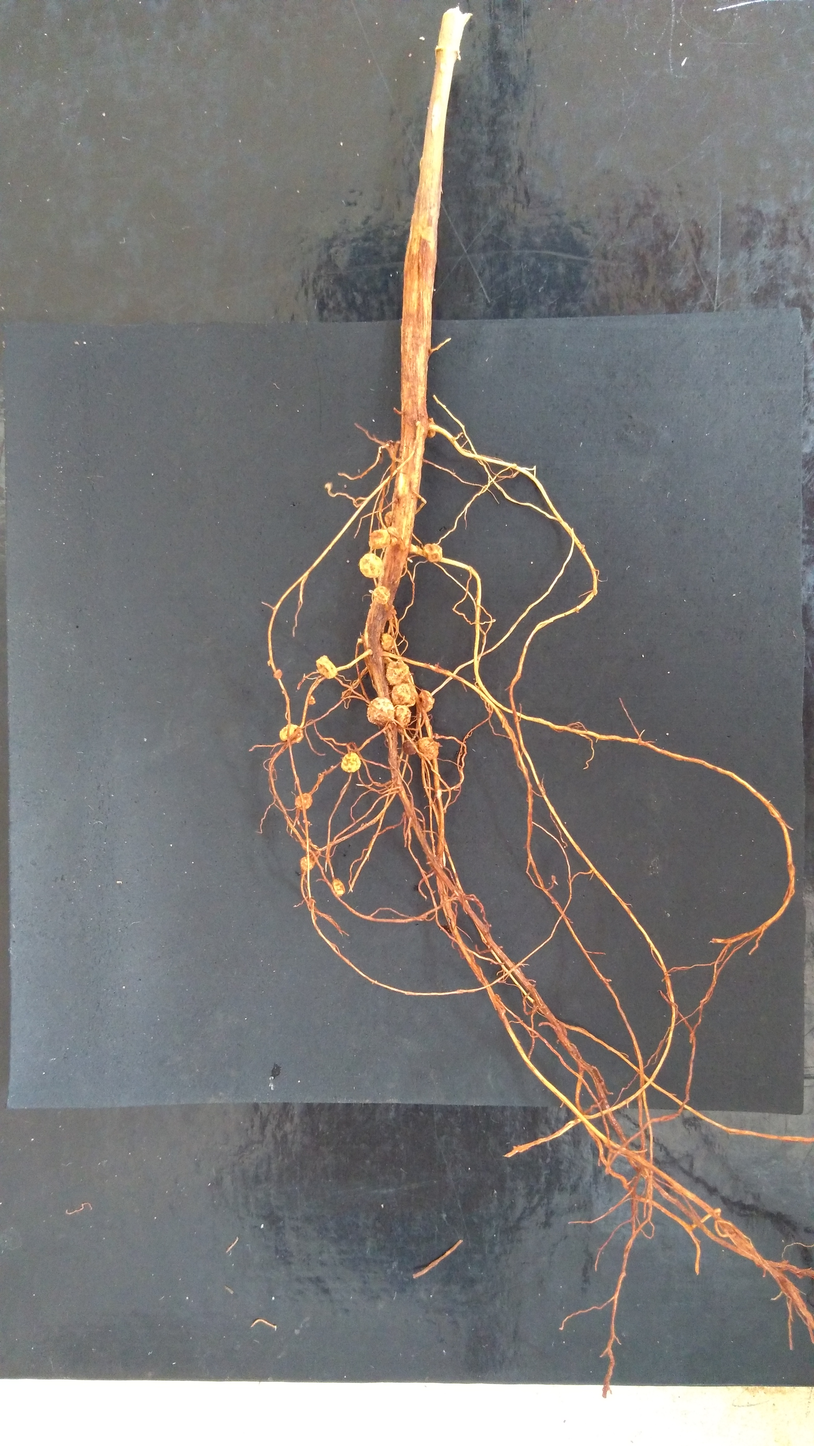nodule: (367, 697, 395, 725), (359, 553, 384, 578), (391, 682, 416, 706), (386, 661, 409, 684), (416, 737, 439, 760), (316, 655, 337, 678), (279, 724, 304, 743), (341, 752, 361, 772), (369, 529, 390, 548), (395, 705, 411, 729), (423, 543, 443, 562), (419, 690, 434, 711), (373, 586, 390, 604), (295, 793, 312, 809), (331, 879, 345, 896), (382, 633, 394, 651), (403, 740, 416, 755), (300, 857, 314, 870), (427, 418, 436, 438), (387, 526, 400, 539), (389, 605, 398, 623), (384, 511, 393, 527), (301, 838, 311, 850), (493, 993, 500, 1010), (390, 536, 399, 546), (273, 669, 282, 679), (308, 696, 315, 705), (309, 898, 316, 905), (414, 420, 421, 427), (394, 499, 398, 503), (380, 509, 383, 512)
